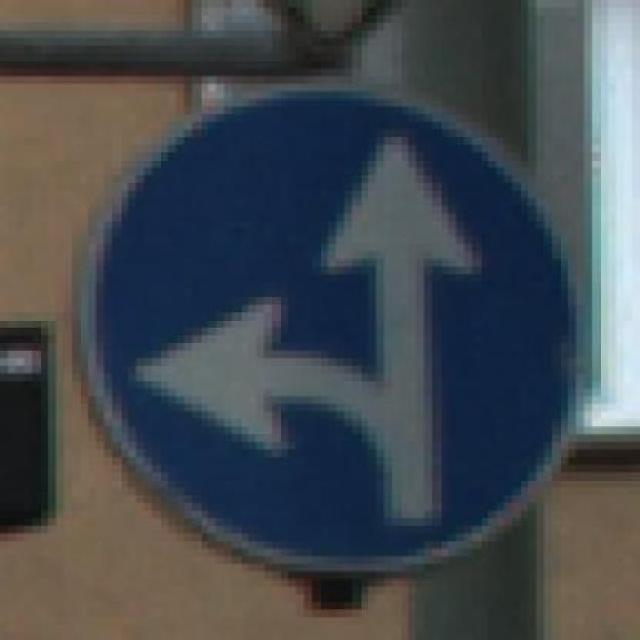Go straight or turn left: (55, 99, 600, 579)
